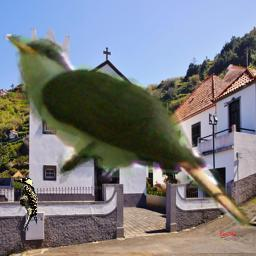Cuckoo: (1, 34, 256, 229)
Woodpecker: (15, 177, 39, 233)
